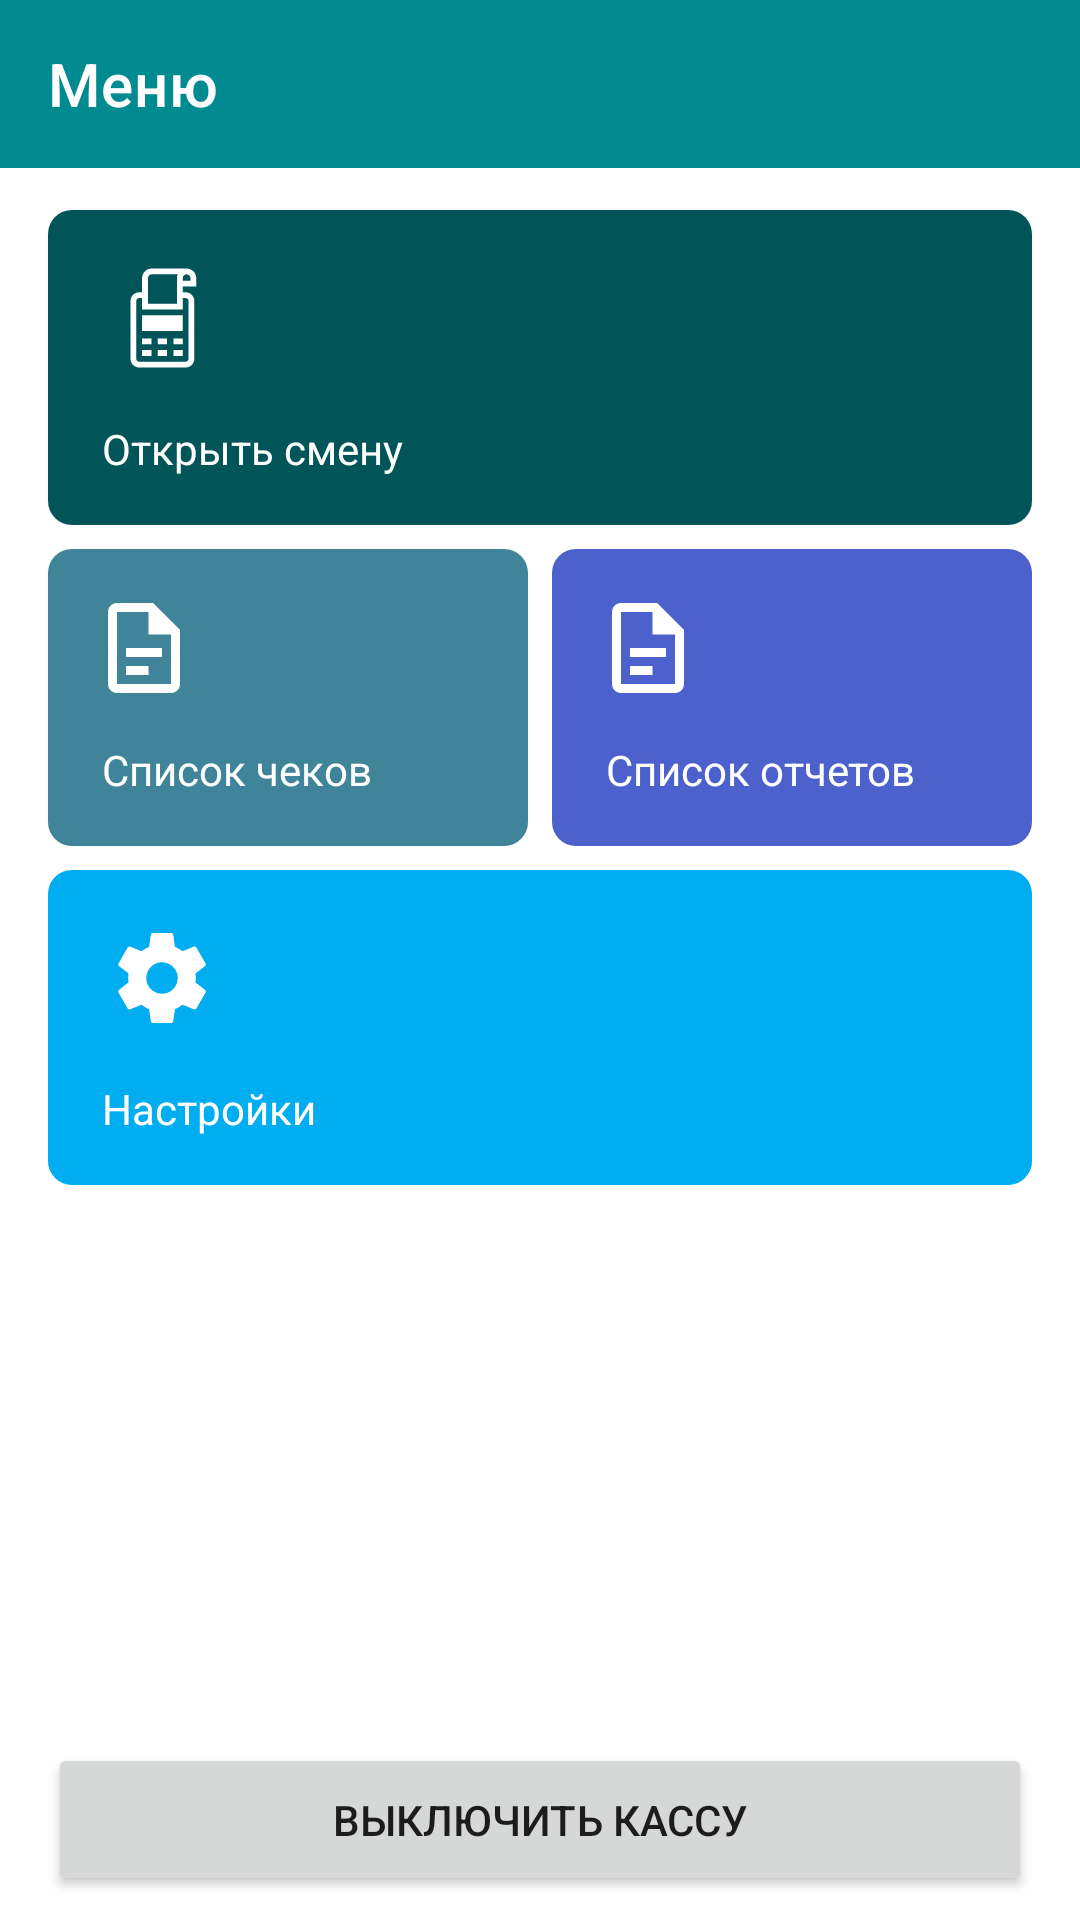

Icons on this 1080x1920 Android screen, each with its box as (x1, y1, x2, y2):
printer: (130, 268, 197, 368)
settings: (118, 933, 206, 1023)
